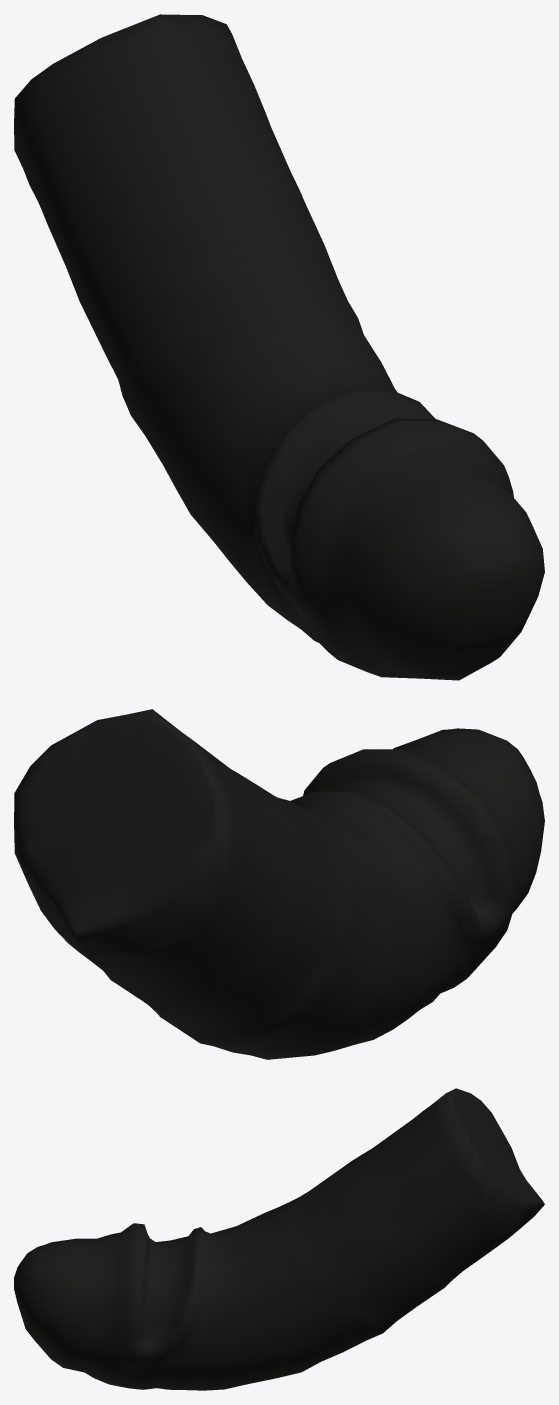
Rendered from dick.glb.
The picture shows the model from 3 angles, top to bottom: view 1: azimuth 30°, elevation 25°; view 2: azimuth 150°, elevation 25°; view 3: azimuth 270°, elevation 25°; orthographic projection. The views are drawn at different scales.
Visible parts, largest first — view 1: vizcom_node_0; view 2: vizcom_node_0; view 3: vizcom_node_0.
Part boxes in pixels (<box>): vizcom_node_0: <box>14,14,544,680</box>; vizcom_node_0: <box>14,709,544,1059</box>; vizcom_node_0: <box>14,1088,544,1390</box>.
Bounding box in the file's own units: 0.2118 × 0.4255 × 0.6935.
Materials: 1 (1 with a texture image).
